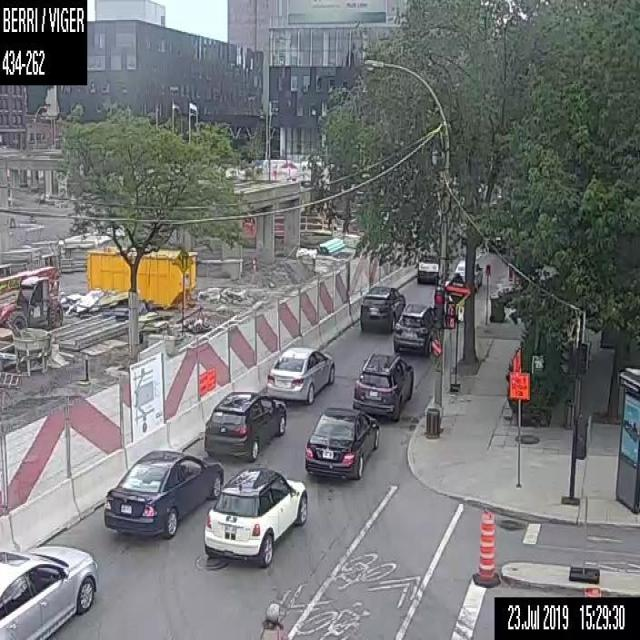construction: (477, 511, 495, 580), (507, 349, 529, 403), (583, 585, 599, 596)
vehicle: (202, 465, 307, 567), (102, 449, 222, 538), (0, 542, 98, 638), (202, 391, 286, 460), (304, 406, 379, 478), (264, 344, 334, 401), (355, 354, 414, 420), (392, 306, 438, 356), (359, 284, 404, 330), (455, 258, 482, 290), (416, 258, 439, 283)
